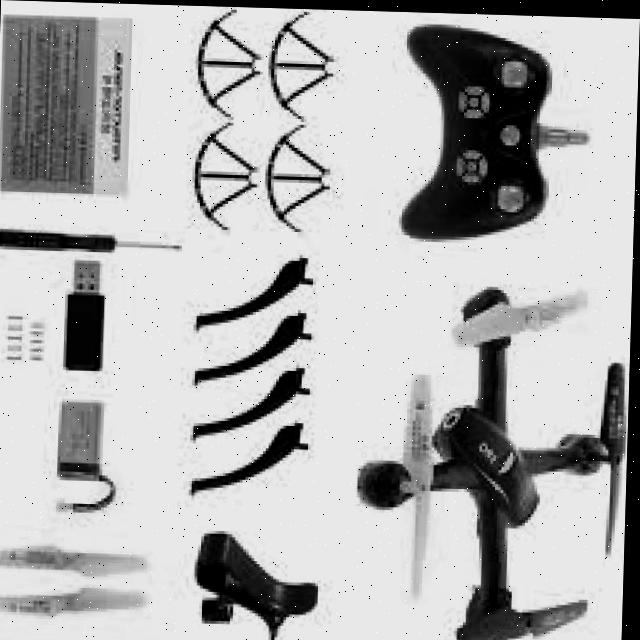drone: (350, 277, 633, 640)
